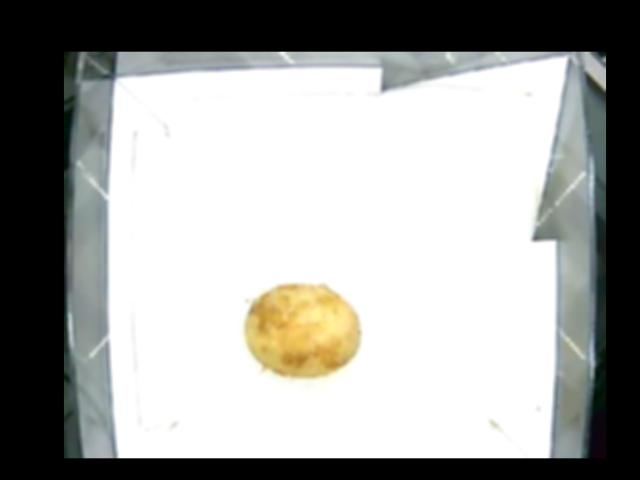Potato: (245, 281, 363, 378)
